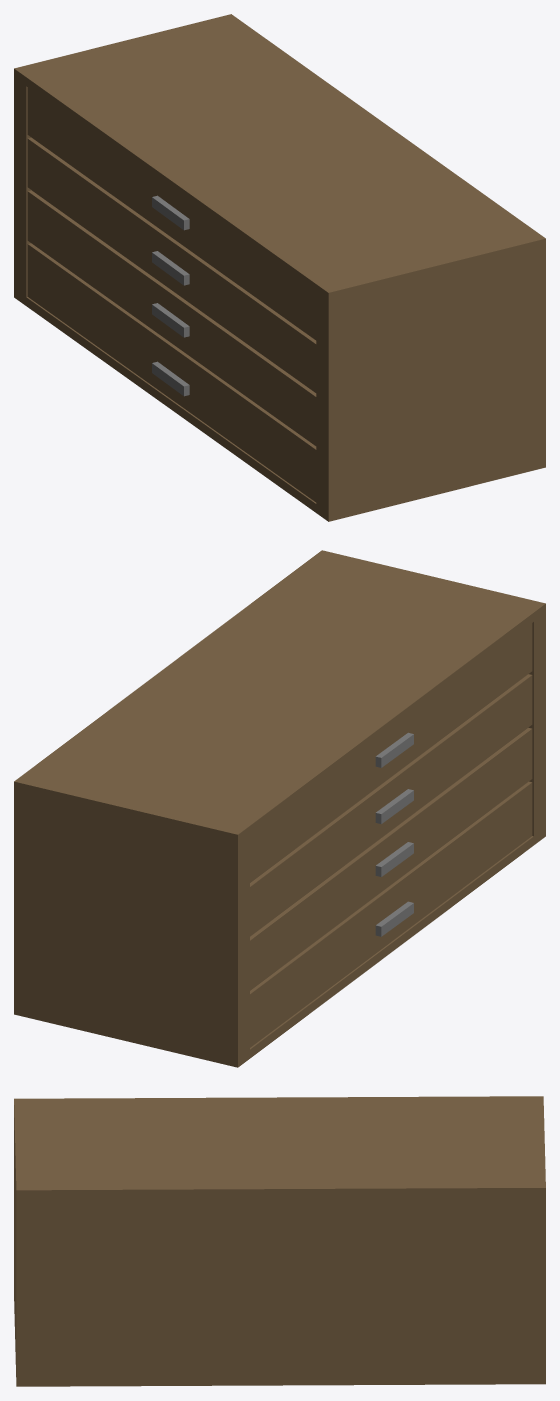
Rendered from DresserForTV.fbx.
3 renders of one model, top to bottom at view 1: azimuth 30°, elevation 25°; view 2: azimuth 150°, elevation 25°; view 3: azimuth 270°, elevation 25°, orthographic. The views are drawn at different scales.
Visible parts, largest first — view 1: TVDresserStand; view 2: TVDresserStand; view 3: TVDresserStand.
Boxes of the visible parts, x1,y1,x2,y2 form: TVDresserStand: [14, 14, 545, 521]; TVDresserStand: [14, 550, 545, 1067]; TVDresserStand: [14, 1096, 545, 1386].
Bounding box in the file's own units: 231 × 224 × 549.
